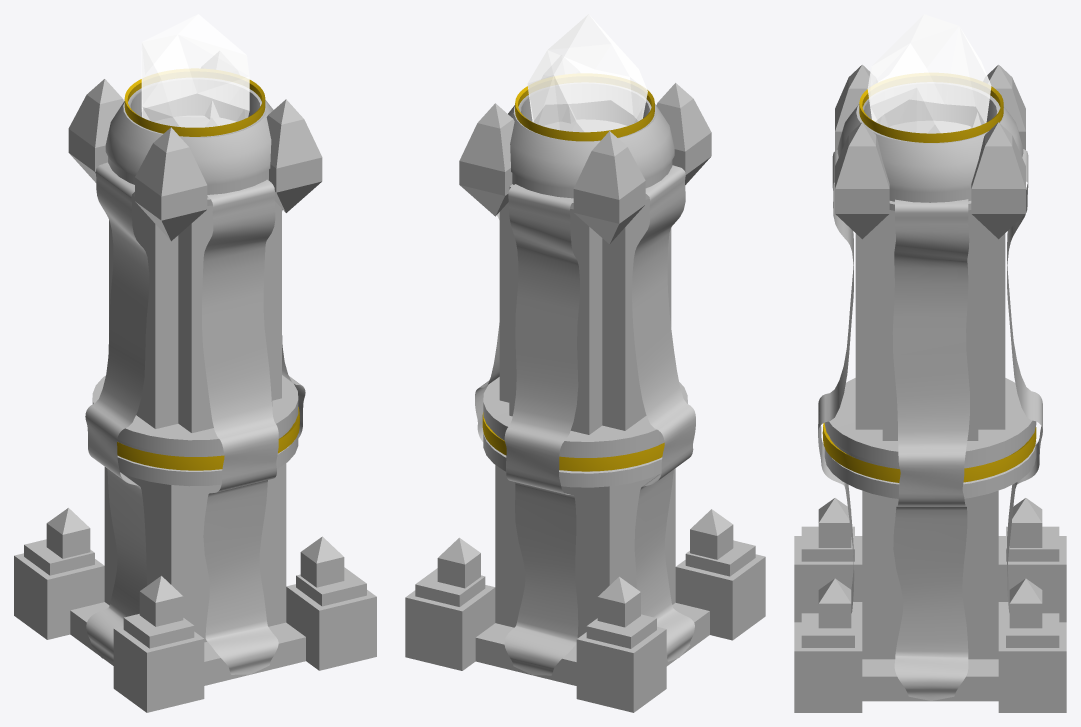
File: tower2.gltf
3 renders of one model, left to right at view 1: azimuth 30°, elevation 25°; view 2: azimuth 150°, elevation 25°; view 3: azimuth 270°, elevation 25°, orthographic. The views are drawn at different scales.
Parts seen in each view (by area): view 1: Tower, Banners, Main Cristal, GondelRings.Tower; view 2: Tower, Banners, Main Cristal, GondelRings.Tower; view 3: Tower, Banners, Main Cristal, GondelRings.Tower.
Boxes of the visible parts, <box> form: Tower: <box>14,79,376,712</box>; Banners: <box>85,162,305,674</box>; Main Cristal: <box>141,14,249,127</box>; GondelRings.Tower: <box>117,79,299,470</box>; Tower: <box>405,83,765,712</box>; Banners: <box>475,165,695,675</box>; Main Cristal: <box>527,14,647,132</box>; GondelRings.Tower: <box>482,86,664,471</box>; Tower: <box>794,64,1066,712</box>; Banners: <box>818,149,1042,700</box>; Main Cristal: <box>867,14,991,133</box>; GondelRings.Tower: <box>822,86,1036,482</box>.
Size of the model in its own units: 2 by 5.19 by 2.
